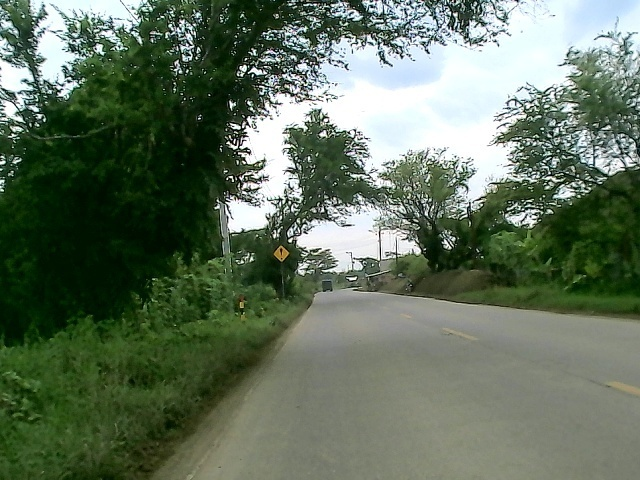Hati-hati: (272, 244, 291, 264)
